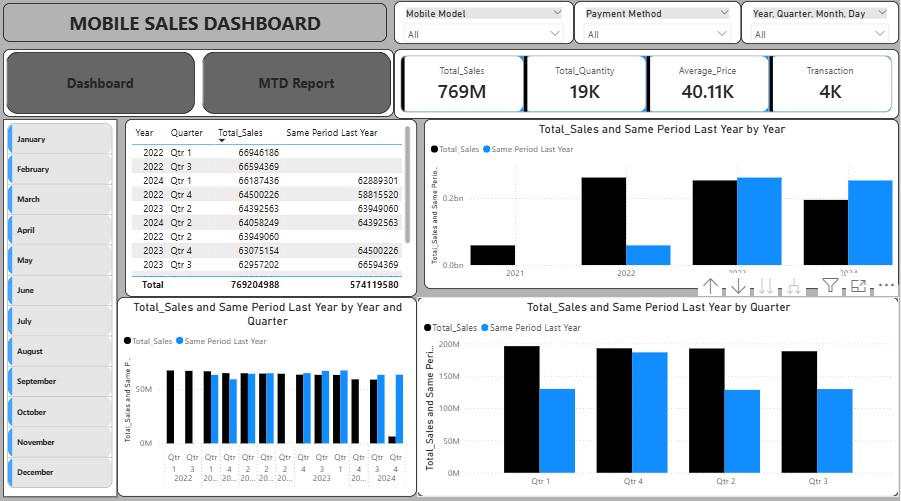

The dashboard page shown, as its layout file describes it:
{"tool":"powerbi","page":{"name":"Same Period Last Year","canvas":[1280,720],"ordinal":2},"visuals":[{"type":"textbox","box":[9.9,9.9,544.3,55.3],"z":0},{"type":"cardVisual","fields":{"Data":["Sales_Data.Total_Sales","Sales_Data.Total_Quantity","Sales_Data.Average_Price","Sales_Data.Transaction"]},"box":[564.1,75.1,715.7,99.2],"z":1000},{"type":"slicer","fields":{"Values":["Sales_Data.Mobile Model"]},"box":[564.1,7.1,255.1,60.9],"z":2000},{"type":"slicer","fields":{"Values":["Sales_Data.Payment Method"]},"box":[819.2,7.1,236.7,60.9],"z":3000},{"type":"slicer","fields":{"Values":["Custom_Calendar.Date.Variation.Date Hierarchy.Year","Custom_Calendar.Date.Variation.Date Hierarchy.Quarter","Custom_Calendar.Date.Variation.Date Hierarchy.Month","Custom_Calendar.Date.Variation.Date Hierarchy.Day"]},"box":[1055.9,7.1,223.9,60.9],"z":4000},{"type":"tableEx","fields":{"Values":["Custom_Calendar.Date.Variation.Date Hierarchy.Year","Custom_Calendar.Date.Variation.Date Hierarchy.Quarter","Sales_Data.Total_Sales","Sales_Data.Same Period Last Year"]},"box":[182.8,174.3,413.9,252.3],"z":5000},{"type":"pageNavigator","box":[9.9,75.1,554.2,96.4],"z":6000},{"type":"clusteredColumnChart","fields":{"Category":["Custom_Calendar.Date.Variation.Date Hierarchy.Year","Custom_Calendar.Date.Variation.Date Hierarchy.Quarter"],"Y":["Sales_Data.Total_Sales","Sales_Data.Same Period Last Year"]},"box":[606.6,174.3,673.2,240.9],"z":7000},{"type":"clusteredColumnChart","fields":{"Category":["Custom_Calendar.Date.Variation.Date Hierarchy.Year","Custom_Calendar.Date.Variation.Date Hierarchy.Quarter"],"Y":["Sales_Data.Total_Sales","Sales_Data.Same Period Last Year"]},"box":[171.5,426.6,425.2,283.5],"z":8000},{"type":"clusteredColumnChart","fields":{"Category":["Custom_Calendar.Date.Variation.Date Hierarchy.Year","Custom_Calendar.Date.Variation.Date Hierarchy.Quarter"],"Y":["Sales_Data.Total_Sales","Sales_Data.Same Period Last Year"]},"box":[596.7,426.6,683.1,283.5],"z":9000},{"type":"advancedSlicerVisual","fields":{"Values":["Custom_Calendar.Date.Variation.Date Hierarchy.Month"]},"box":[9.9,174.3,161.6,535.7],"z":10000}]}

Visuals, with their boxes in screenshot pixels (x1, y1, x2, y2), scaled from the page's 1280x720 canvas onto the 901x501 screenshot:
textbox: region(7, 7, 390, 45)
cardVisual - Sales_Data.Total_Sales x Sales_Data.Total_Quantity: region(397, 52, 900, 121)
slicer - Sales_Data.Mobile Model: region(397, 5, 577, 47)
slicer - Sales_Data.Payment Method: region(577, 5, 743, 47)
slicer - Custom_Calendar.Date.Variation.Date Hierarchy.Year x Custom_Calendar.Date.Variation.Date Hierarchy.Quarter: region(743, 5, 900, 47)
tableEx - Custom_Calendar.Date.Variation.Date Hierarchy.Year x Custom_Calendar.Date.Variation.Date Hierarchy.Quarter: region(129, 121, 420, 297)
pageNavigator: region(7, 52, 397, 119)
clusteredColumnChart - Custom_Calendar.Date.Variation.Date Hierarchy.Year x Custom_Calendar.Date.Variation.Date Hierarchy.Quarter: region(427, 121, 900, 289)
clusteredColumnChart - Custom_Calendar.Date.Variation.Date Hierarchy.Year x Custom_Calendar.Date.Variation.Date Hierarchy.Quarter: region(121, 297, 420, 494)
clusteredColumnChart - Custom_Calendar.Date.Variation.Date Hierarchy.Year x Custom_Calendar.Date.Variation.Date Hierarchy.Quarter: region(420, 297, 900, 494)
advancedSlicerVisual - Custom_Calendar.Date.Variation.Date Hierarchy.Month: region(7, 121, 121, 494)
